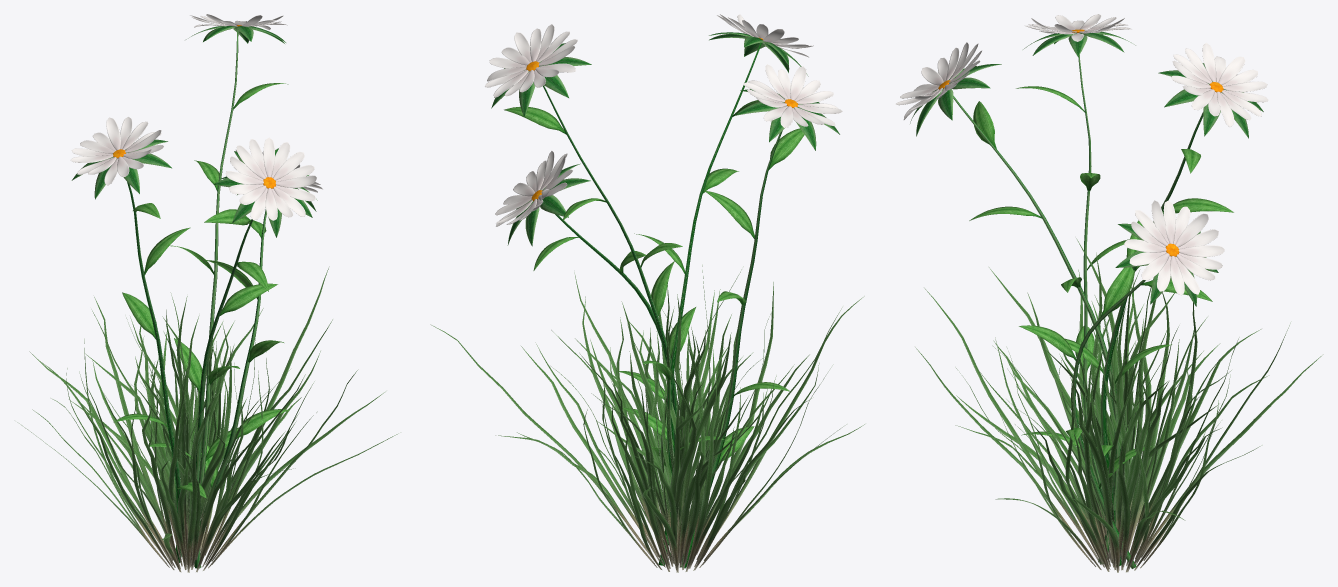
File: white_flower.glb
3 renders of one model, left to right at view 1: azimuth 30°, elevation 25°; view 2: azimuth 150°, elevation 25°; view 3: azimuth 270°, elevation 25°, orthographic. The views are drawn at different scales.
Parts seen in each view (by area): view 1: longe_grass_grass_0, white_flower_Petal_0, white_flower_Stem_0, white_flower_Leaf_0; view 2: longe_grass_grass_0, white_flower_Petal_0, white_flower_Stem_0, white_flower_Leaf_0; view 3: longe_grass_grass_0, white_flower_Petal_0, white_flower_Stem_0, white_flower_Leaf_0.
Part boxes in pixels (box(x1,y1,x2,y2)): longe_grass_grass_0: box(17, 266, 400, 572); white_flower_Petal_0: box(70, 14, 322, 220); white_flower_Stem_0: box(71, 26, 317, 568); white_flower_Leaf_0: box(113, 83, 289, 498); longe_grass_grass_0: box(430, 264, 864, 572); white_flower_Petal_0: box(485, 14, 842, 226); white_flower_Stem_0: box(491, 32, 839, 568); white_flower_Leaf_0: box(504, 100, 804, 466); longe_grass_grass_0: box(915, 238, 1323, 572); white_flower_Petal_0: box(896, 14, 1268, 295); white_flower_Stem_0: box(910, 31, 1263, 568); white_flower_Leaf_0: box(969, 86, 1233, 488).
Bounding box in the file's own units: 59.98 × 81.64 × 57.29.
5 materials, 5 textured.
